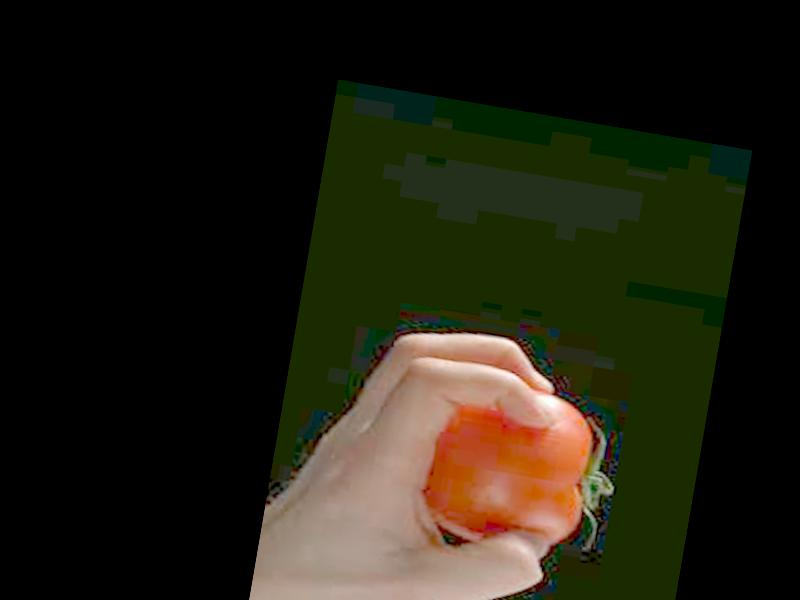Tomato: (422, 378, 624, 561)
